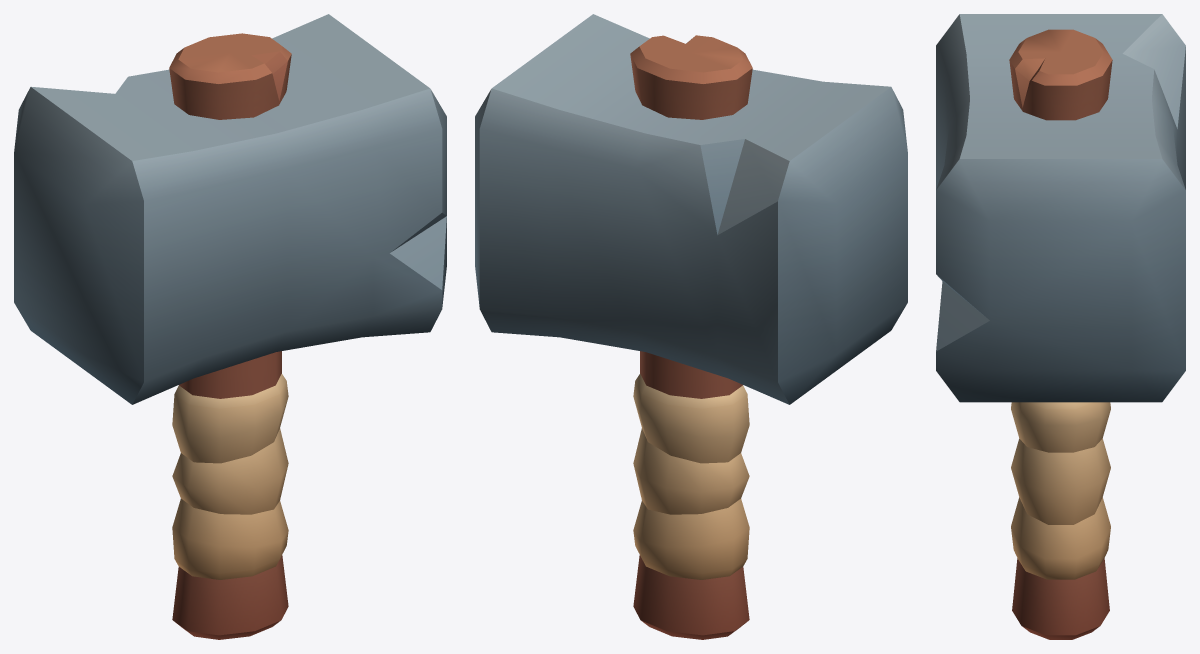
Rendered from hammer.glb.
3 views of the same model, side by side, from view 1: azimuth 30°, elevation 25°; view 2: azimuth 150°, elevation 25°; view 3: azimuth 270°, elevation 25° (orthographic).
Visible parts, largest first — view 1: hammer; view 2: hammer; view 3: hammer.
Part boxes in pixels (bbox=[...]): hammer: bbox=[14, 14, 446, 639]; hammer: bbox=[475, 14, 907, 639]; hammer: bbox=[936, 14, 1185, 639].
Size of the model in its own units: 0.2717 by 0.4117 by 0.1631.
Materials: 1 (1 with a texture image).
